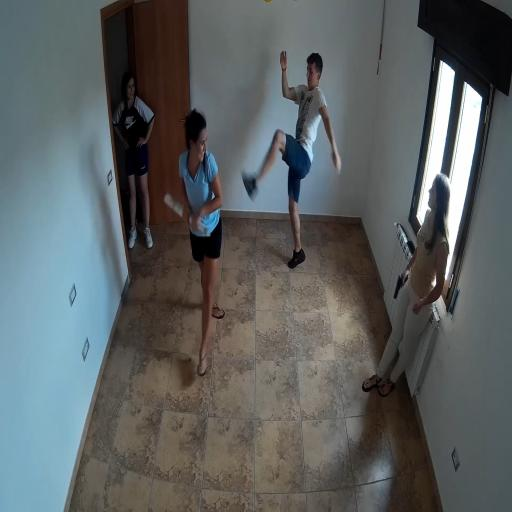violencia: (154, 10, 348, 384)
